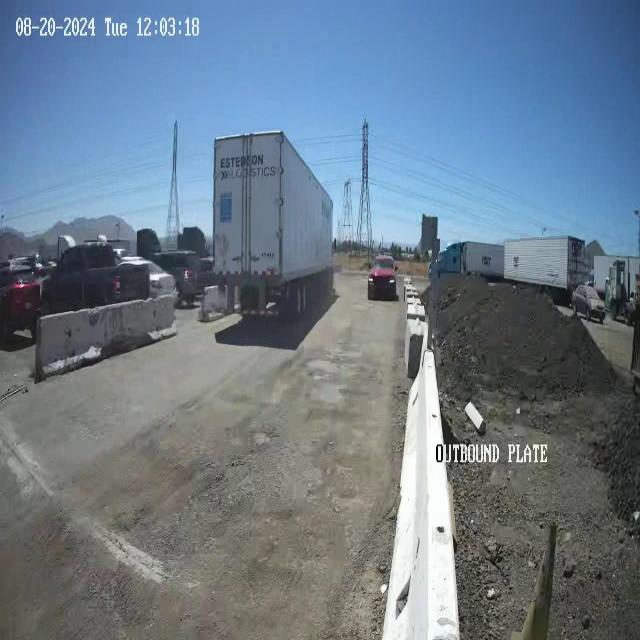TRUCK_IN: (212, 129, 334, 316)
